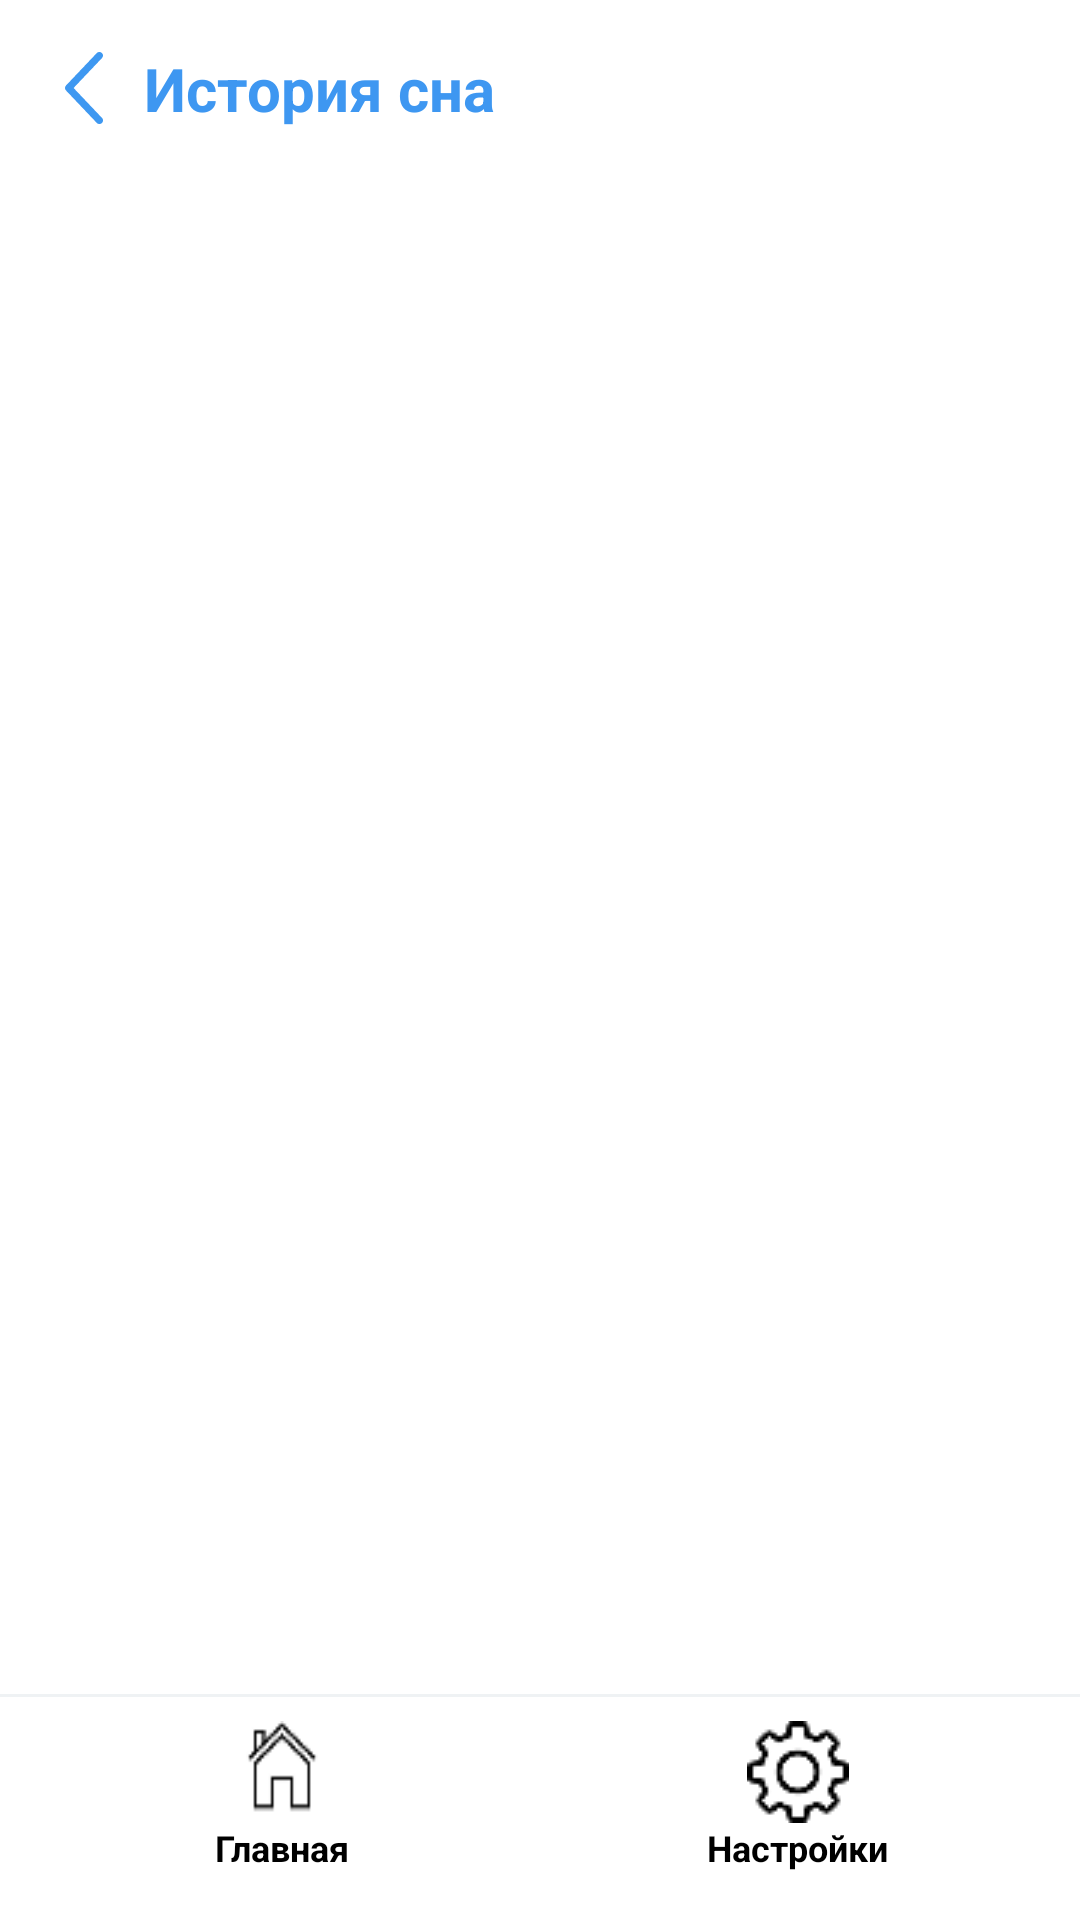

Icons on this 1080w x 1920h Android screen, each with the point to tap as (x=x, y=y):
Back button: (x=84, y=88)
